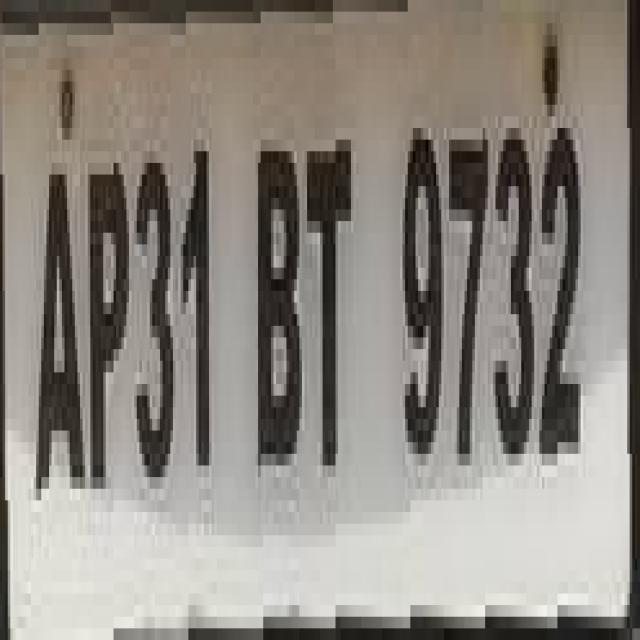license_plate: (0, 11, 622, 640)
